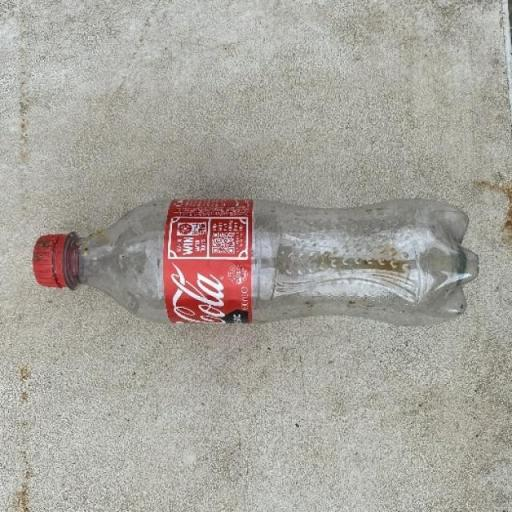plastic: (31, 196, 479, 326)
